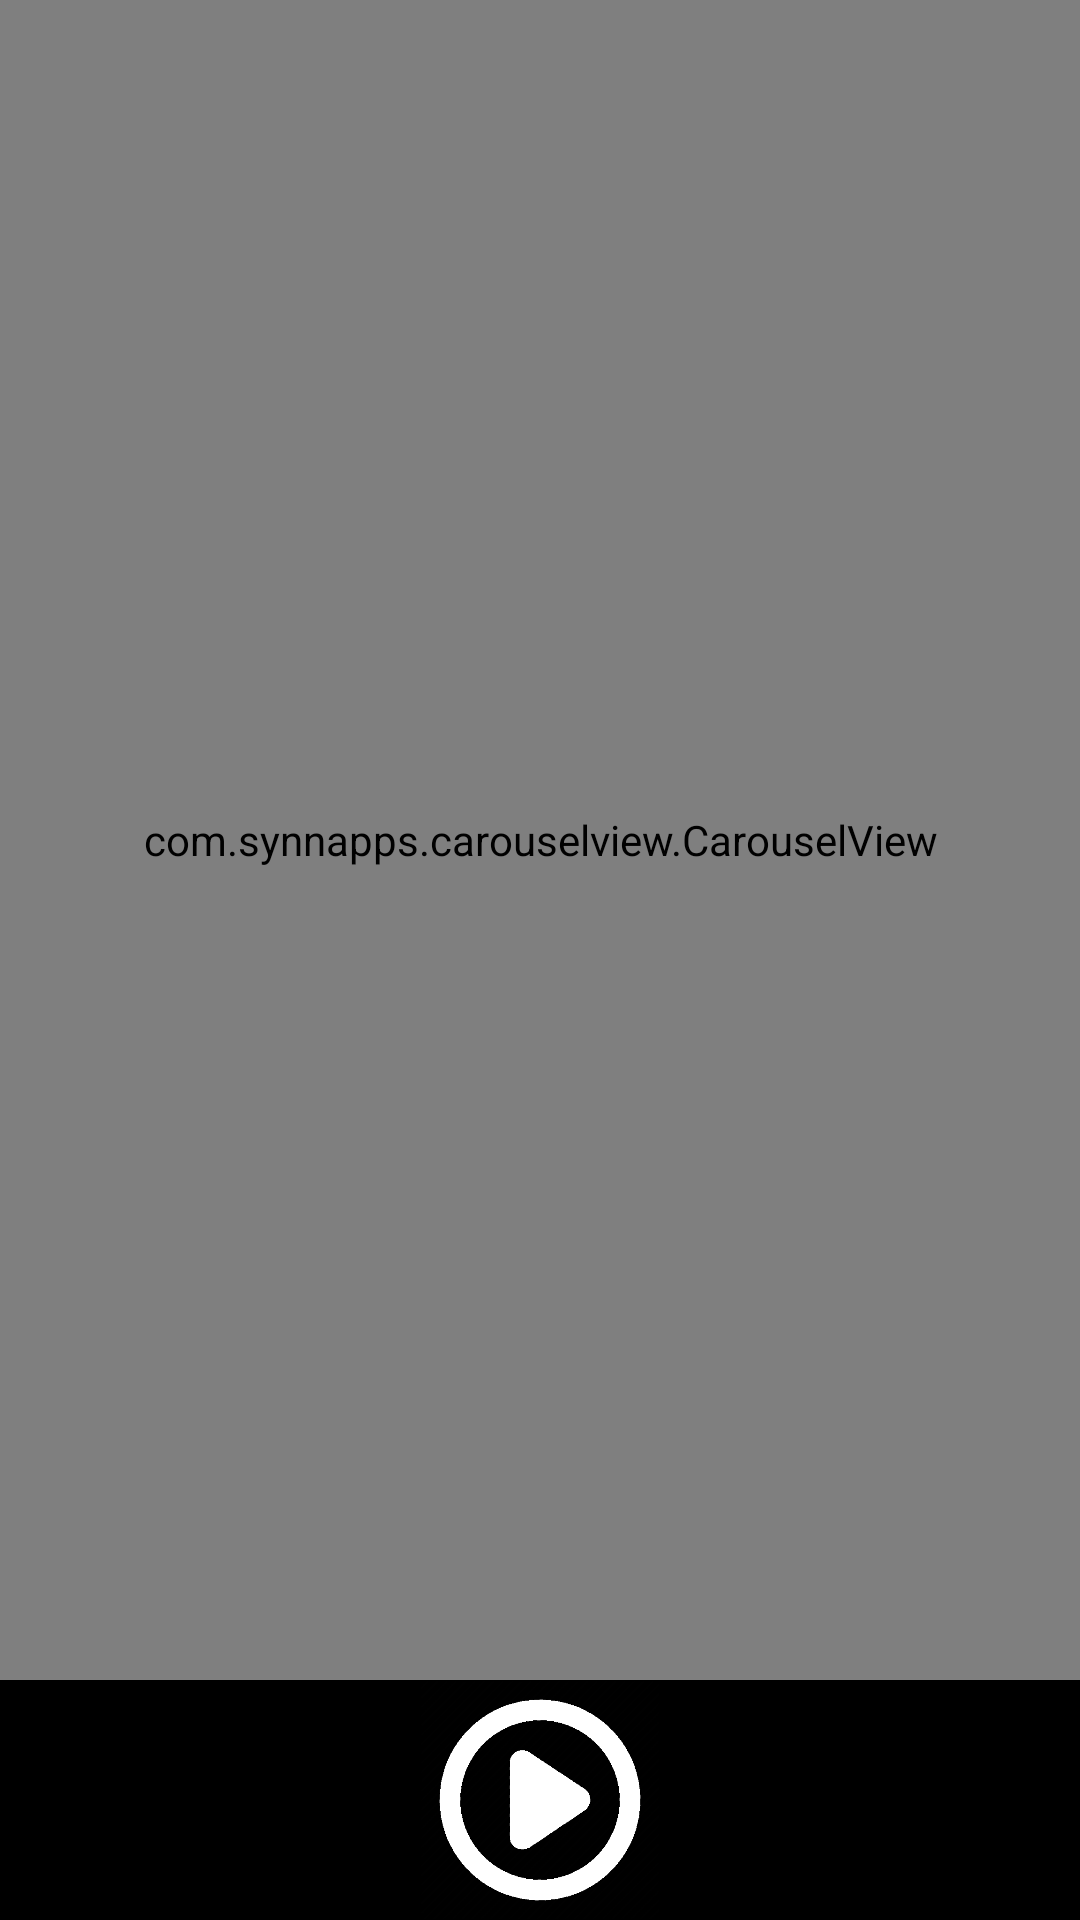

Icon bounding boxes for this 1080 x 1920 phone screenshot, format detection(x1, y1, x2, y2):
play: detection(439, 1699, 641, 1901)
